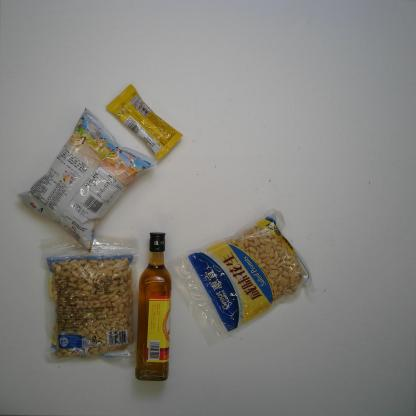Chocolate: (105, 82, 183, 162)
Dried Fruit: (166, 207, 314, 347), (38, 237, 141, 371)
Puffed Food: (14, 105, 158, 256)
Seasoner: (134, 229, 173, 384)
